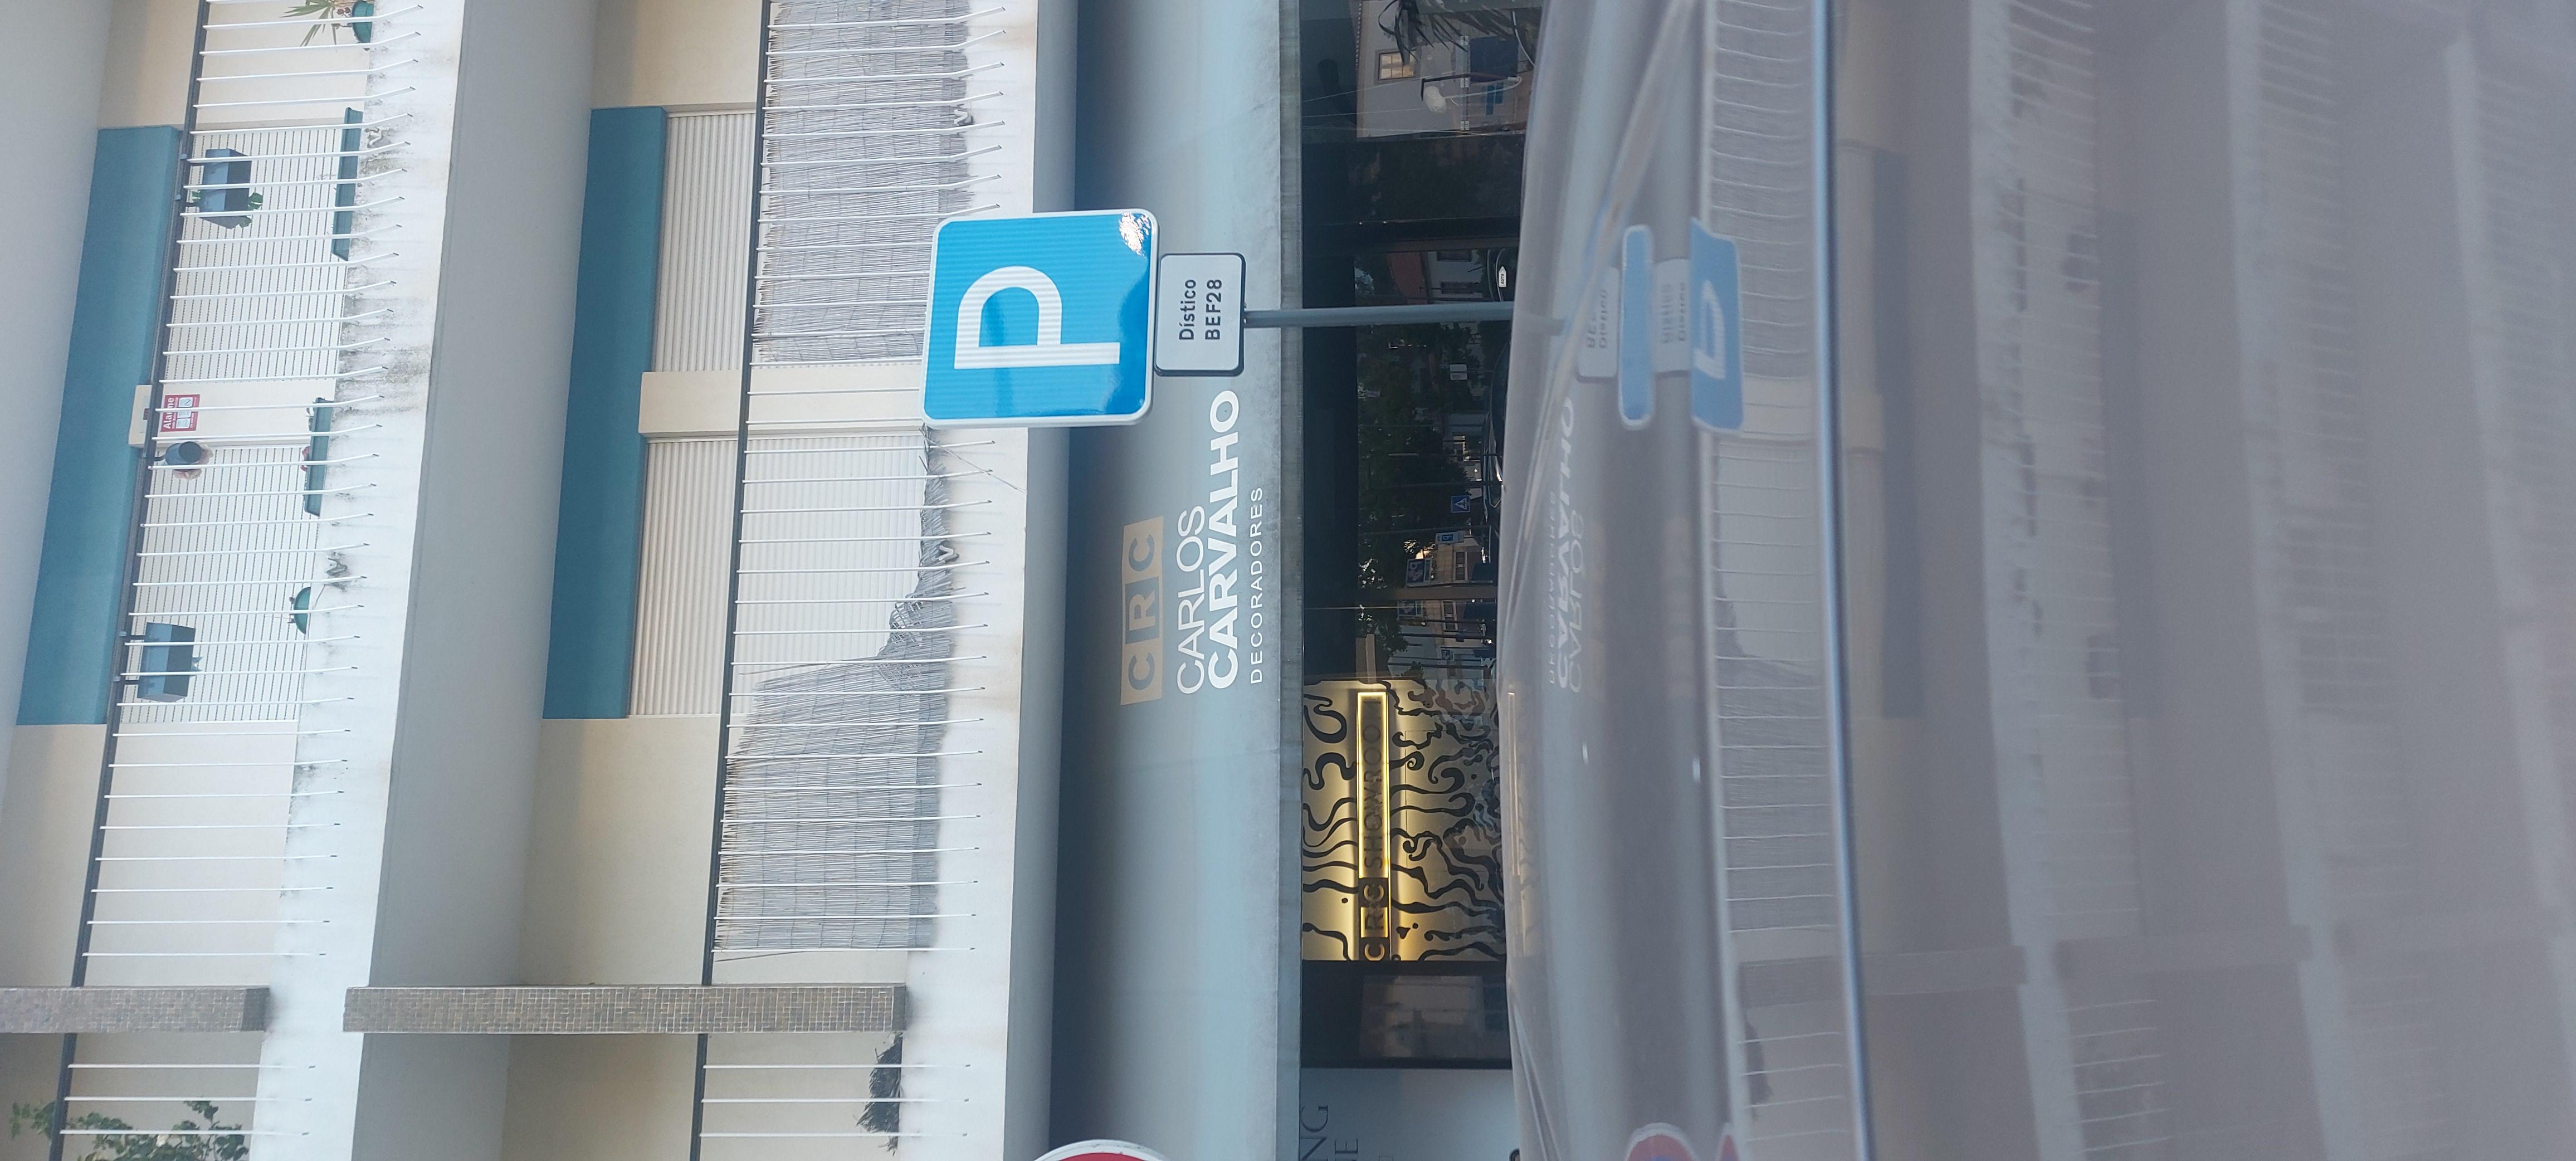Estacionamento autorizado: (1628, 414, 2119, 525)
